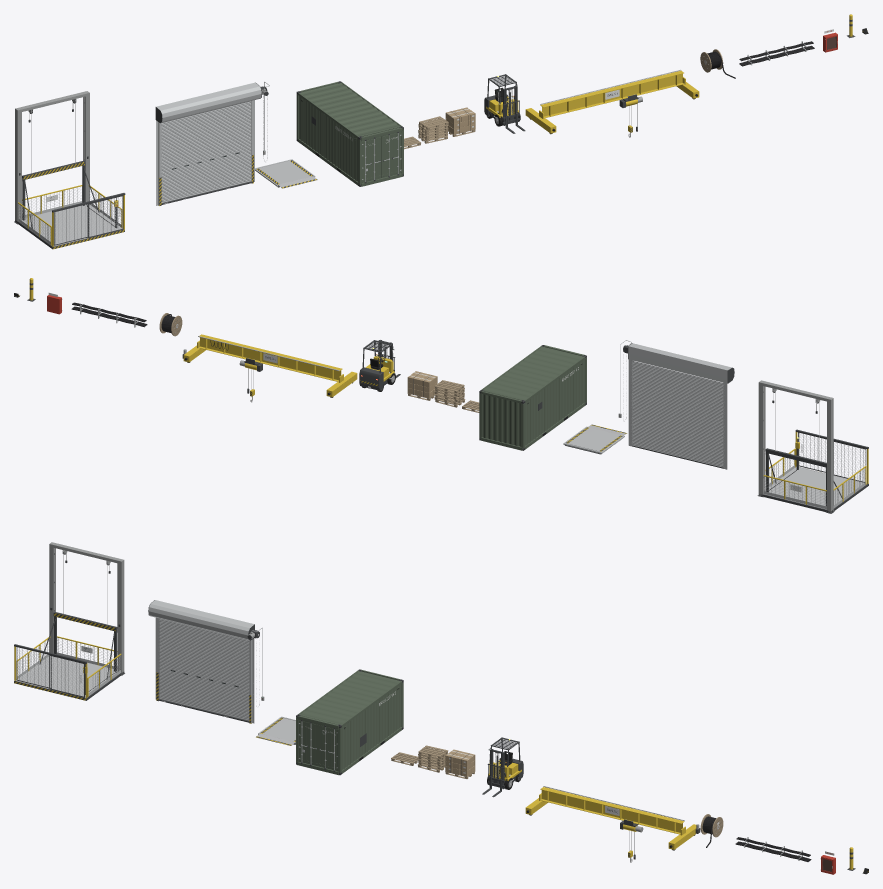
Rendered from dock_kit.glb.
3 renders of one model, top to bottom at view 1: azimuth 30°, elevation 25°; view 2: azimuth 150°, elevation 25°; view 3: azimuth 330°, elevation 25°, orthographic.
Parts seen in each view (by area): view 1: rollup_door_body, container_20ft_body, freight_lift_body, gantry_beam_8_body, forklift_body, dock_leveler_body, pallet_boxes_body, pallet_stack_body, wall_cable_run_4_body; view 2: rollup_door_body, container_20ft_body, freight_lift_body, gantry_beam_8_body, forklift_body, dock_leveler_body, pallet_boxes_body, pallet_stack_body, wall_cable_run_4_body; view 3: rollup_door_body, container_20ft_body, freight_lift_body, gantry_beam_8_body, forklift_body, dock_leveler_body, pallet_boxes_body, pallet_stack_body.
Part boxes in pixels (left/top/right/bottom): rollup_door_body: left=155, top=81, right=269, bottom=205; container_20ft_body: left=296, top=81, right=403, bottom=186; freight_lift_body: left=14, top=91, right=125, bottom=249; gantry_beam_8_body: left=525, top=69, right=699, bottom=137; forklift_body: left=484, top=74, right=525, bottom=133; dock_leveler_body: left=255, top=159, right=317, bottom=188; pallet_boxes_body: left=445, top=107, right=475, bottom=136; pallet_stack_body: left=418, top=116, right=448, bottom=143; wall_cable_run_4_body: left=739, top=41, right=814, bottom=66; rollup_door_body: left=618, top=340, right=734, bottom=469; container_20ft_body: left=479, top=345, right=586, bottom=450; freight_lift_body: left=757, top=380, right=868, bottom=513; gantry_beam_8_body: left=182, top=334, right=357, bottom=402; forklift_body: left=359, top=340, right=400, bottom=391; dock_leveler_body: left=563, top=424, right=627, bottom=454; pallet_boxes_body: left=407, top=371, right=437, bottom=400; pallet_stack_body: left=434, top=380, right=465, bottom=407; wall_cable_run_4_body: left=71, top=302, right=147, bottom=327; rollup_door_body: left=148, top=600, right=264, bottom=723; container_20ft_body: left=296, top=669, right=403, bottom=775; freight_lift_body: left=14, top=542, right=124, bottom=700; gantry_beam_8_body: left=525, top=786, right=700, bottom=862; forklift_body: left=482, top=737, right=523, bottom=797; dock_leveler_body: left=256, top=716, right=295, bottom=745; pallet_boxes_body: left=445, top=749, right=475, bottom=778; pallet_stack_body: left=418, top=745, right=448, bottom=772.
Bounding box in the file's own units: 46.15 × 8.53 × 6.11.
